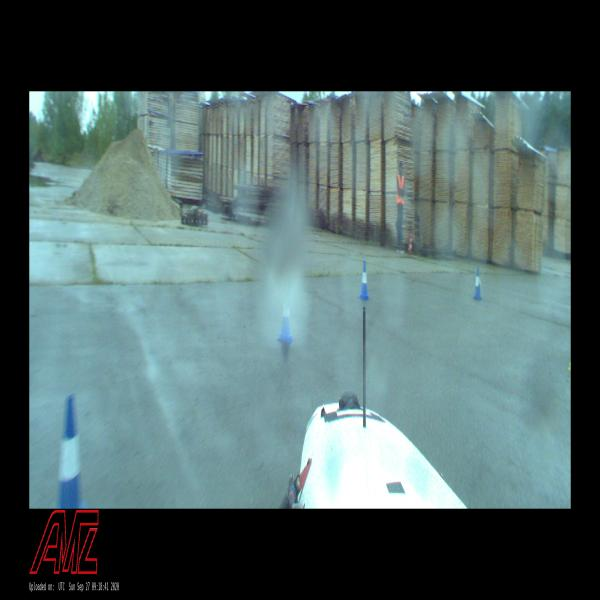blue_cone: (58, 397, 88, 508), (277, 298, 293, 342), (360, 261, 370, 299), (473, 267, 482, 299)
